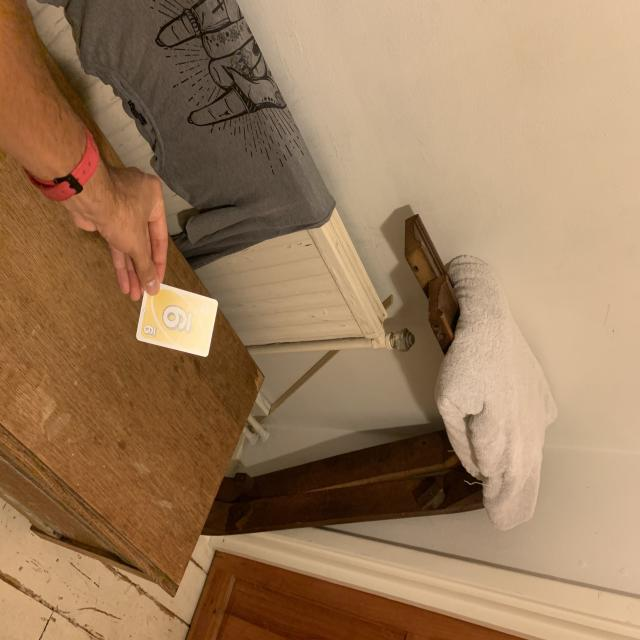lyellow-9: (140, 319, 158, 339)
